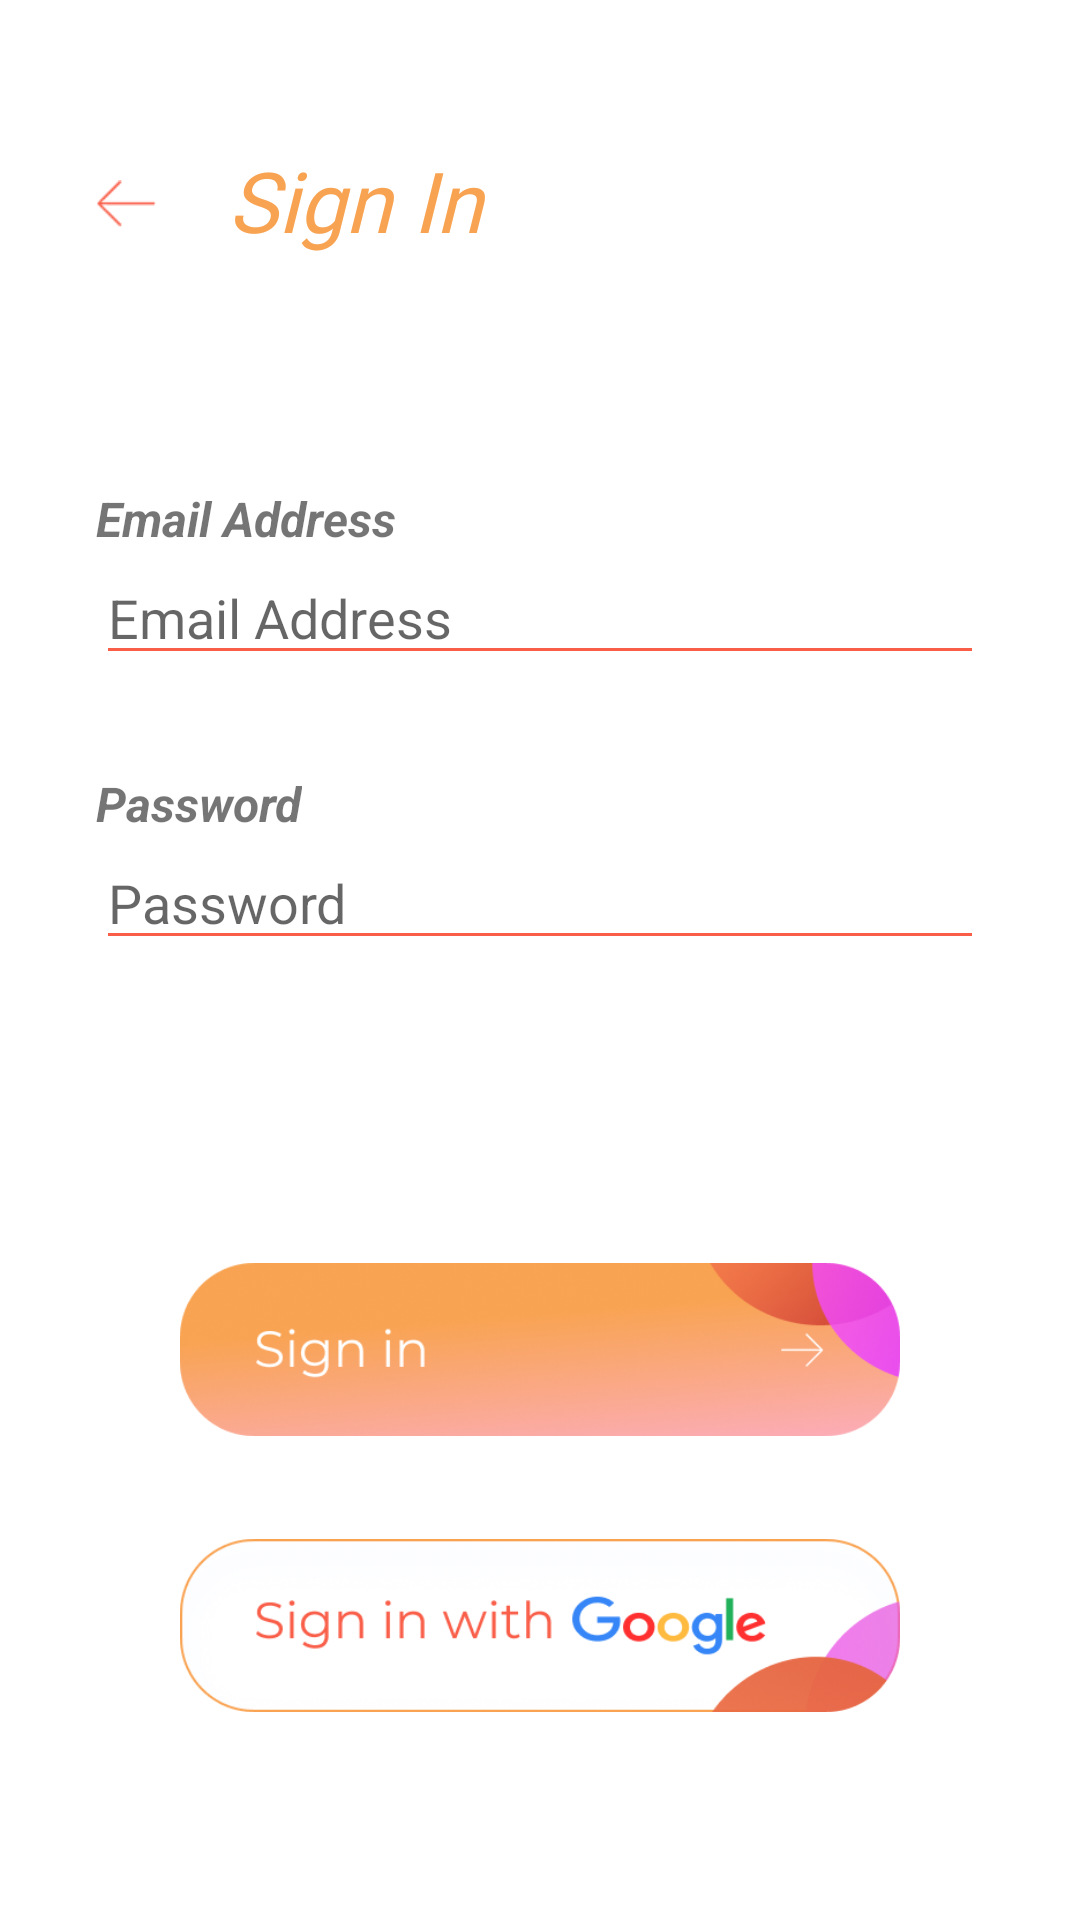

Screen size 1080x1920. Icon name, then its center in pixels as point (x, y):
leftarrow: point (126, 203)
